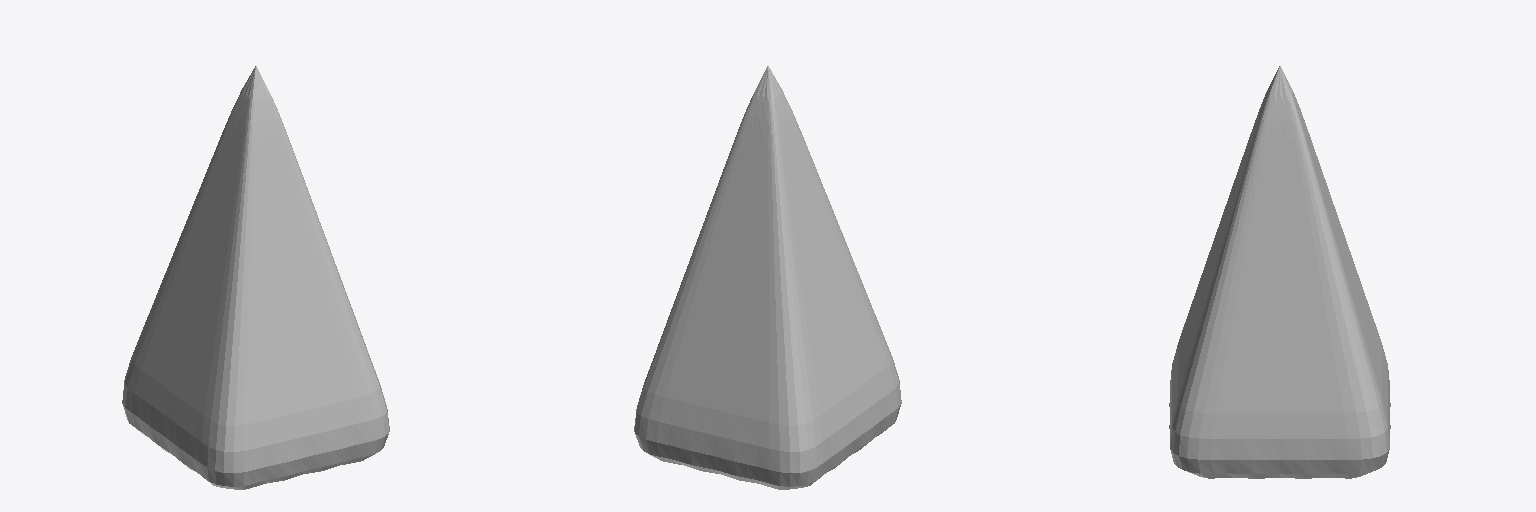
File: Boya3.obj
3 views of the same model, side by side, from view 1: azimuth 30°, elevation 25°; view 2: azimuth 150°, elevation 25°; view 3: azimuth 270°, elevation 25° (orthographic).
Visible parts, largest first — view 1: Boya_3; view 2: Boya_3; view 3: Boya_3.
Boxes of the visible parts, x1,y1,x2,y2 form: Boya_3: [122, 66, 389, 489]; Boya_3: [634, 66, 901, 489]; Boya_3: [1169, 66, 1390, 478].
Bounding box in the file's own units: 35.26 × 71.15 × 37.37.